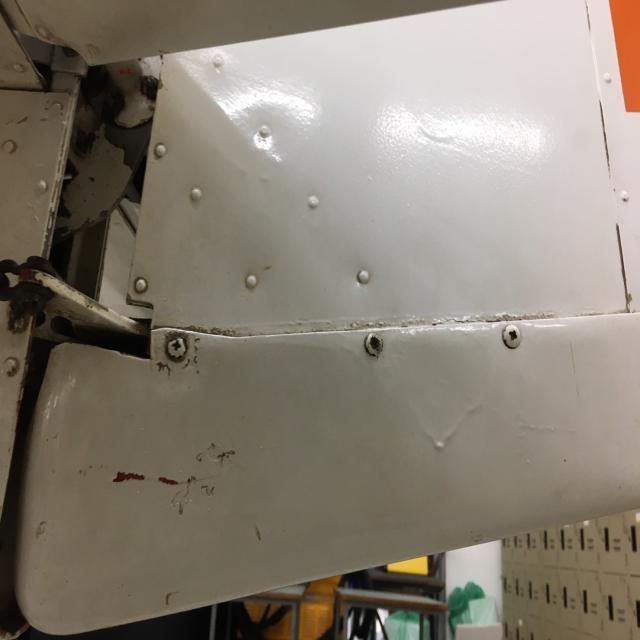Rupture: (58, 419, 255, 545), (154, 324, 206, 389)
